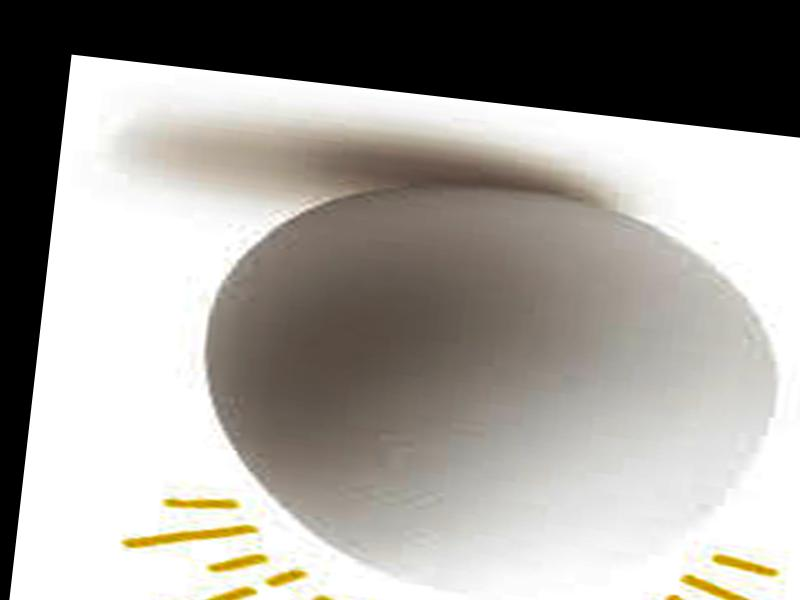Eggs: (181, 156, 800, 600)
